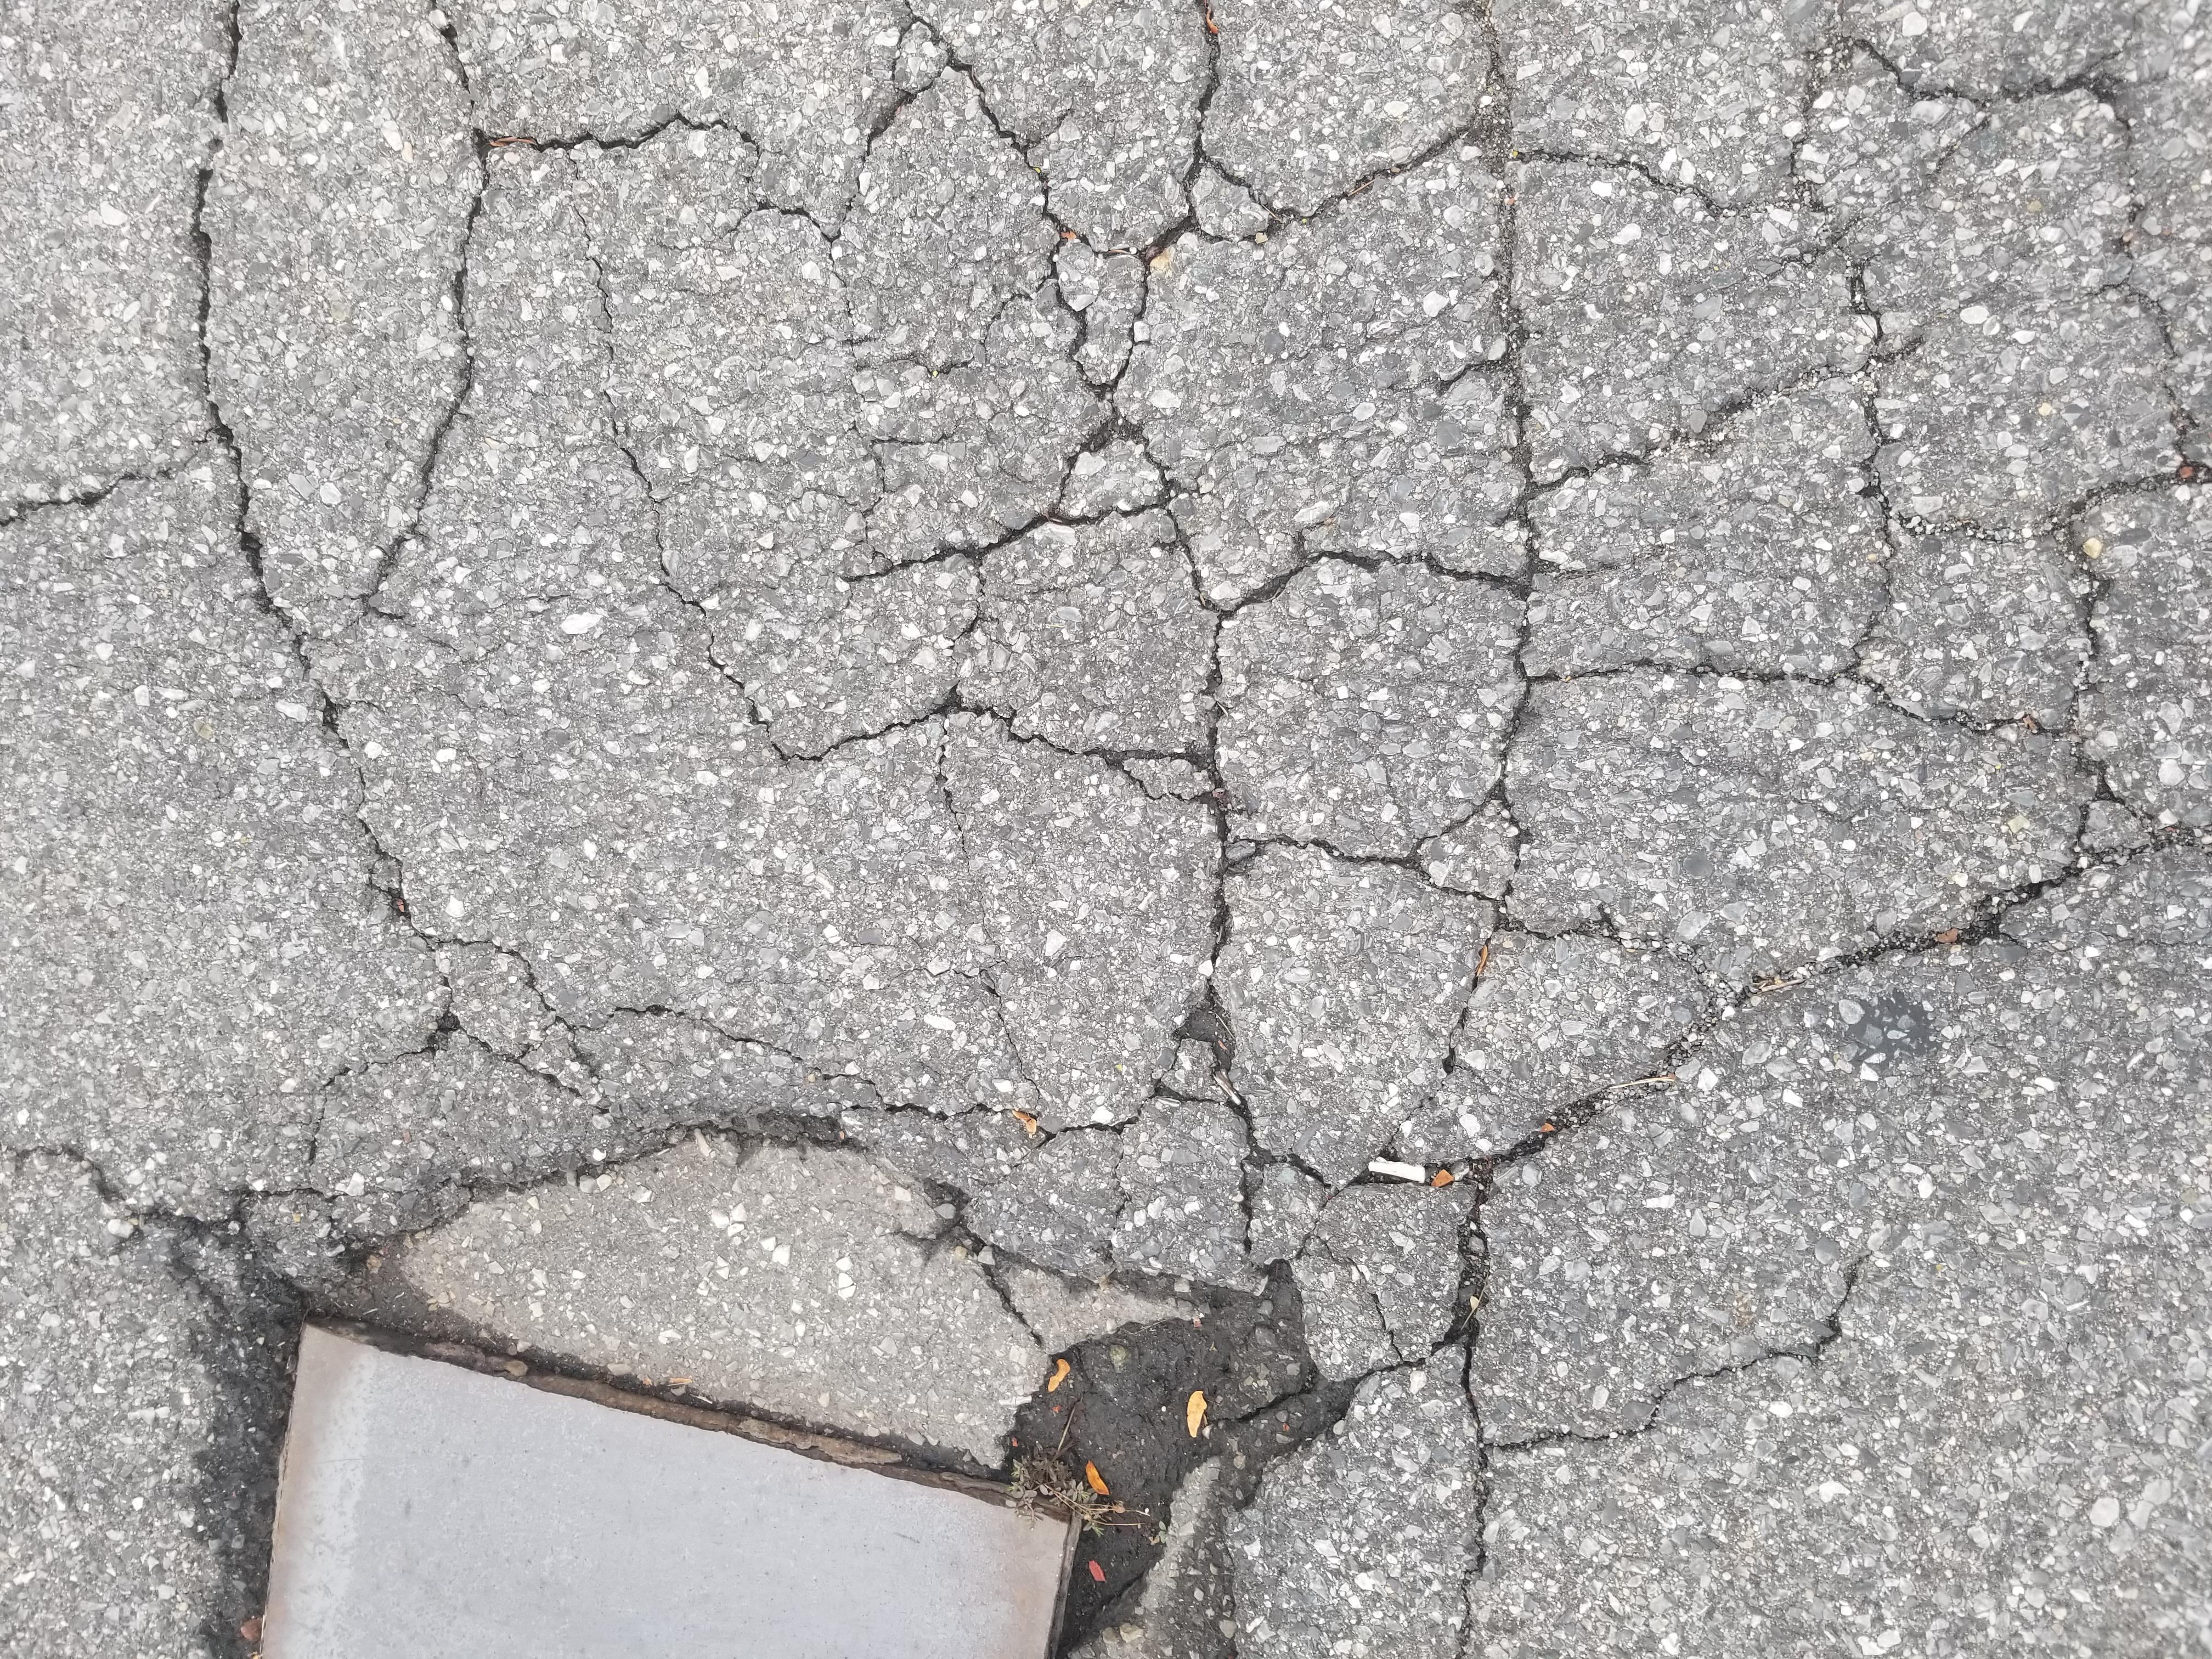alligator-crack: (629, 683, 2158, 1490)
